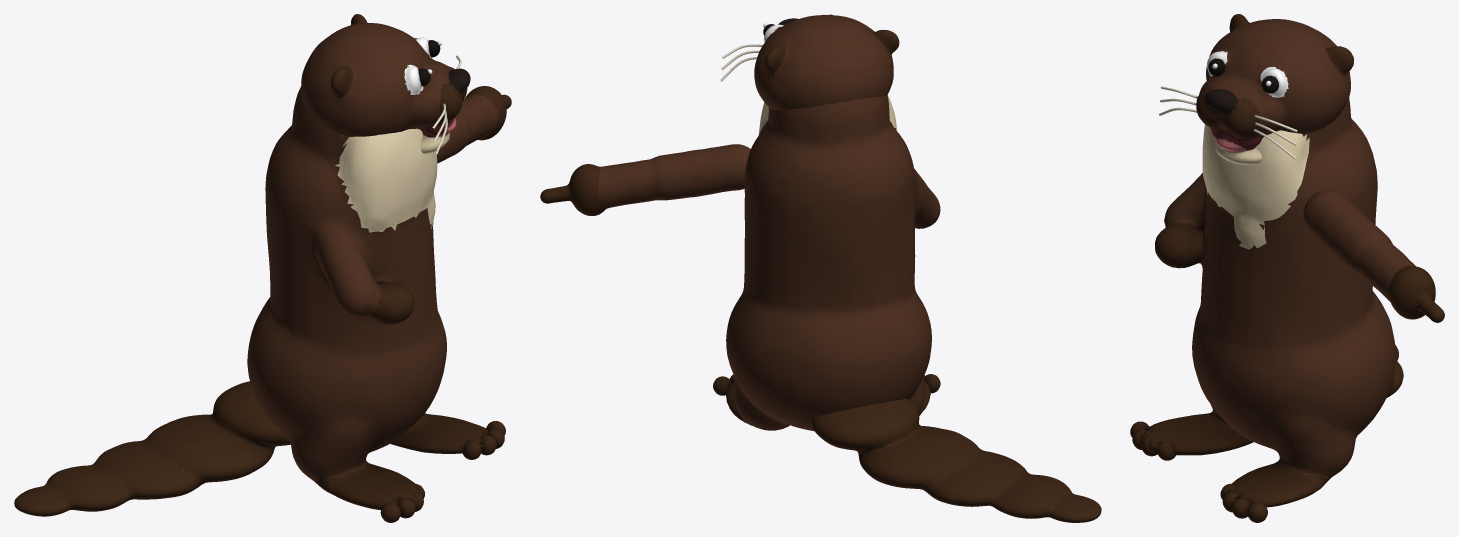
File: stannar-bussen-har.glb
3 renders of one model, left to right at view 1: azimuth 30°, elevation 25°; view 2: azimuth 150°, elevation 25°; view 3: azimuth 270°, elevation 25°, orthographic. The views are drawn at different scales.
Parts seen in each view (by area): view 1: ariranha__r0, rabo__r0, cabeca__r0, pata__r0; view 2: ariranha__r0, rabo__r0, cabeca__r0, pata__r0; view 3: ariranha__r0, cabeca__r0, pata__r0.
Part boxes in pixels (<box>): ariranha__r0: <box>247,86,495,510</box>; rabo__r0: <box>14,381,290,516</box>; cabeca__r0: <box>301,14,470,153</box>; pata__r0: <box>437,86,511,163</box>; ariranha__r0: <box>726,95,940,431</box>; rabo__r0: <box>811,398,1101,522</box>; cabeca__r0: <box>754,15,899,110</box>; pata__r0: <box>540,144,750,215</box>; ariranha__r0: <box>1140,98,1395,507</box>; cabeca__r0: <box>1196,14,1353,164</box>; pata__r0: <box>1303,190,1444,322</box>.
Size of the model in its own units: 2.62 by 2 by 1.3.
